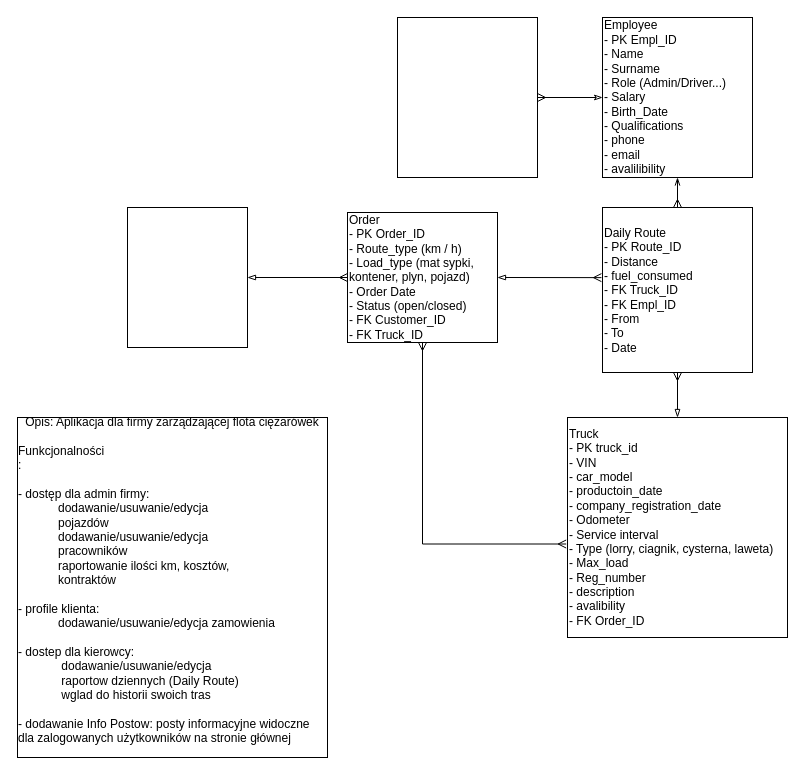
Some shapes in this 805 by 777 pixel diagram are drawn without their labels. Here are the shapes that lost their labels. From the top down, the centre of each, then its label:
the point at 467,97: InfoPost - PK Post_ID - FK Author (Empl ID) - Posting_date - Title - Text_body
the point at 187,277: Customer - PK Customer_ID - Comapny_name - Billing_address - phone - email - NIP
